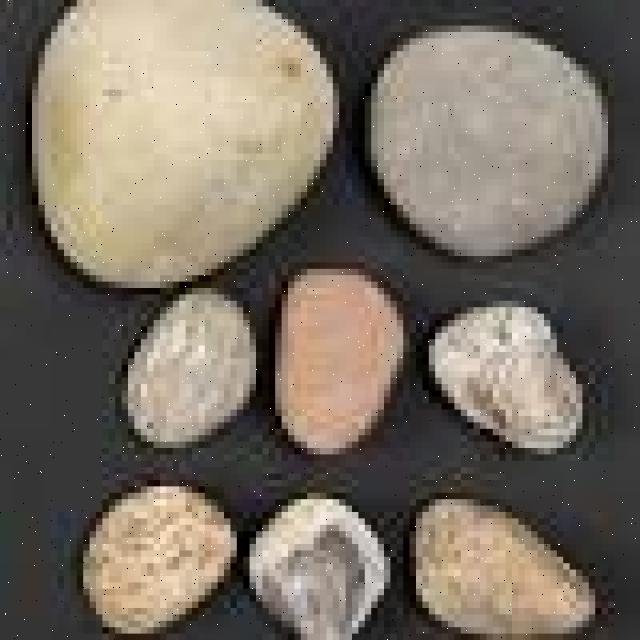Metamorphic: (19, 13, 352, 301)
